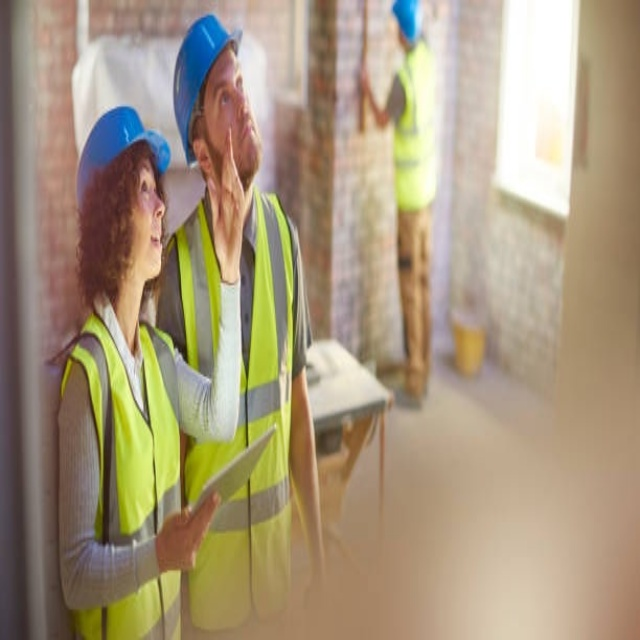Sin_gafas: (212, 63, 247, 113), (139, 161, 160, 202)
Sin_guantes: (204, 128, 252, 281), (157, 483, 224, 581)
Sin_mascara: (232, 113, 262, 165), (141, 218, 165, 274)
